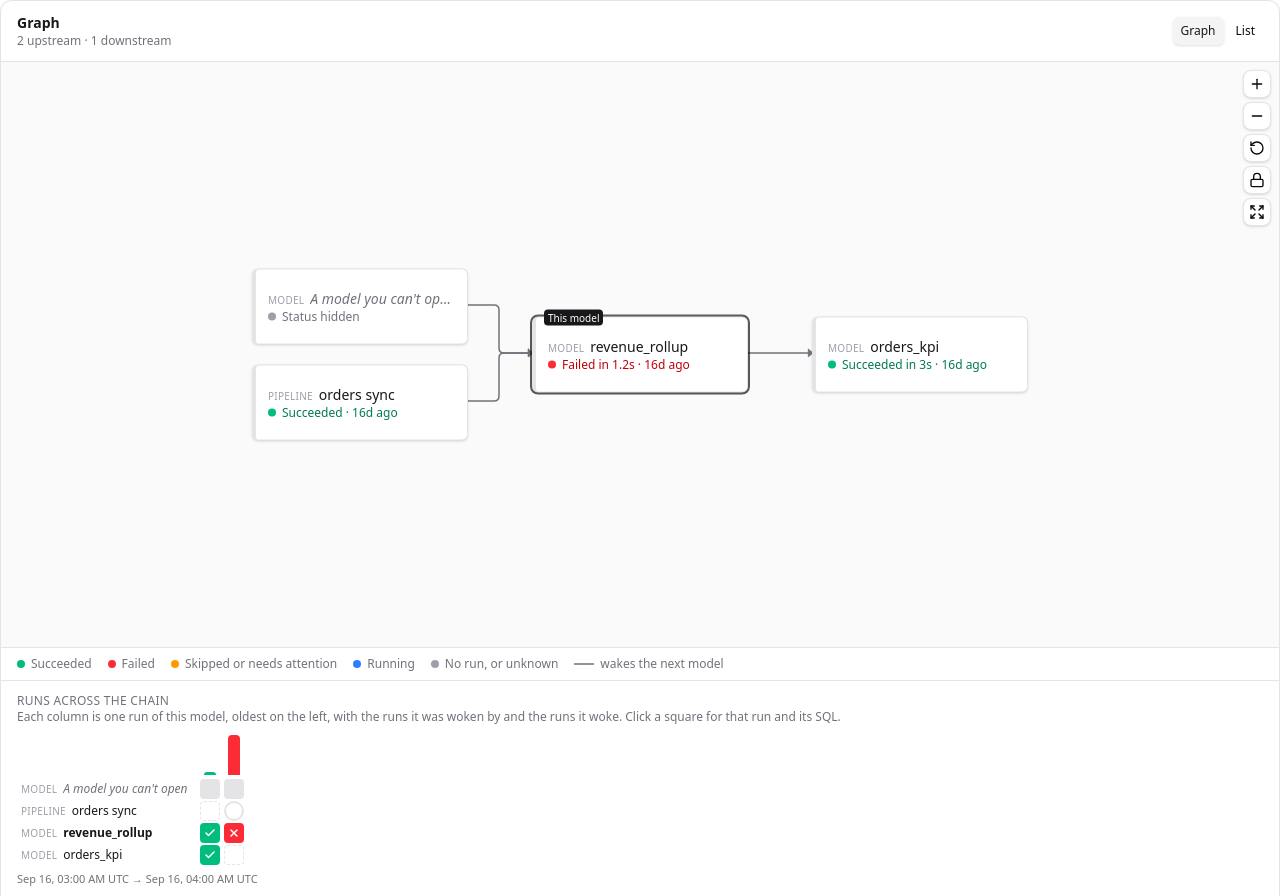
it: ModelLineageGraph › the run panel and the run grid › opens a card's recent runs and the SQL the chosen run executed
The width and height of the screenshot is (1280, 896).
Expected: the number of elements with class "react-flow__node" is 4, [532,316,748,392]; [252,268,468,344]; [812,316,1028,392]; [252,364,468,440]
Click the 1st text "orders_kpi": (905, 346) [870,336,939,356]
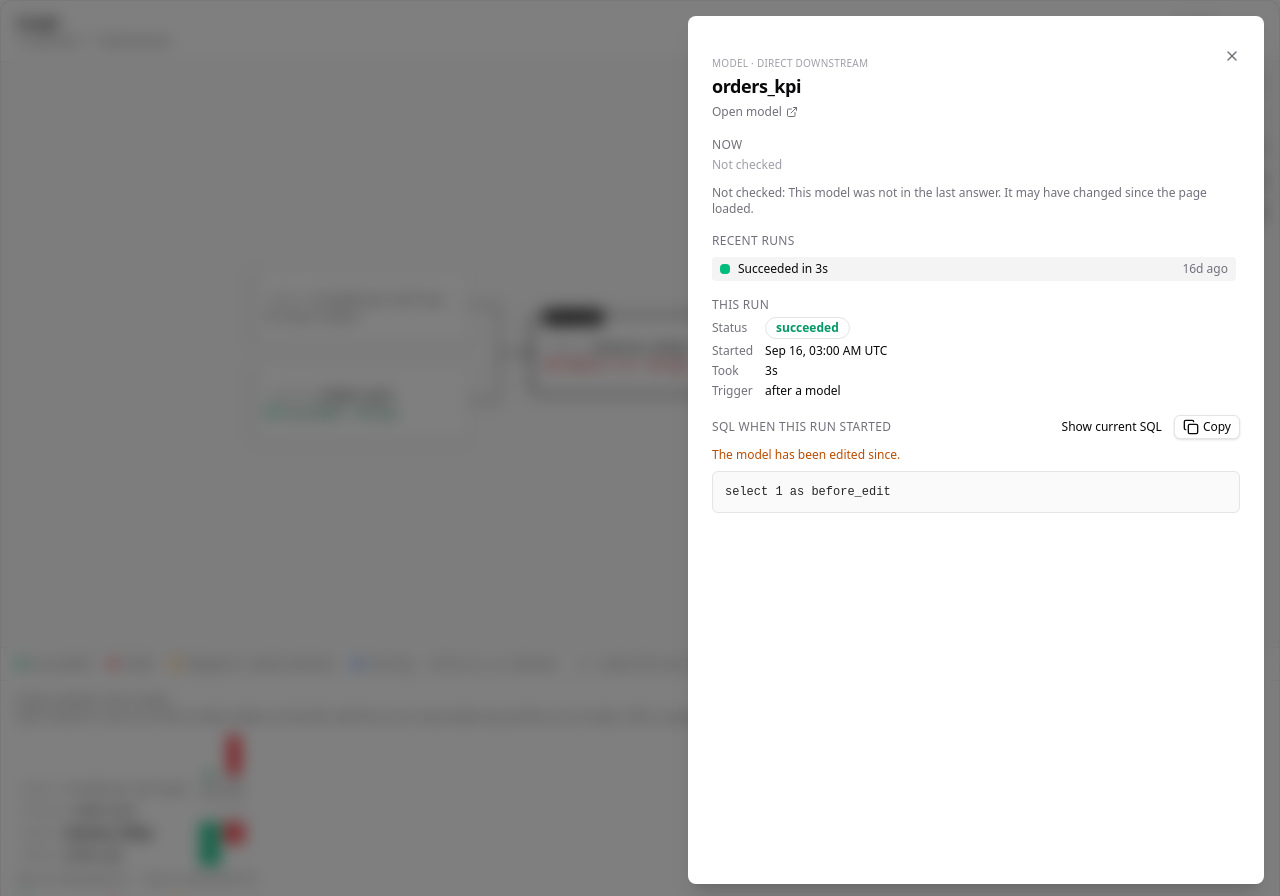
Expected: the text "after a model" is shown, [765,382,841,399]
Expected: the text named "SQL when this run started" reads "select 1 as before_edit", [725,485,891,499]
Expected: the text "The model has been edited since." is shown, [712,446,900,463]
Click the button "Show current SQL": (1112, 427) [1054,415,1170,439]
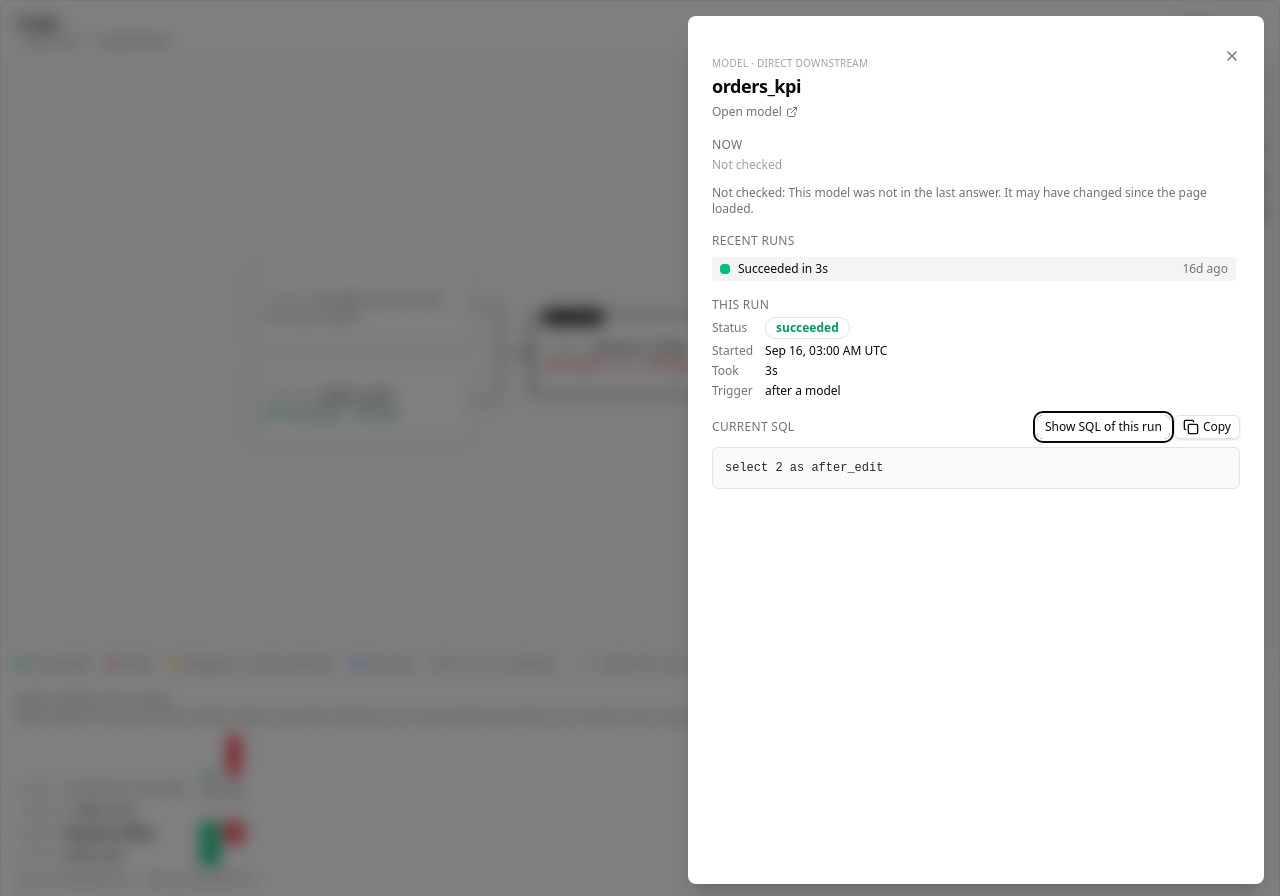
Expected: the text named "Current SQL" reads "select 2 as after_edit", [725,461,883,475]
Press Escape
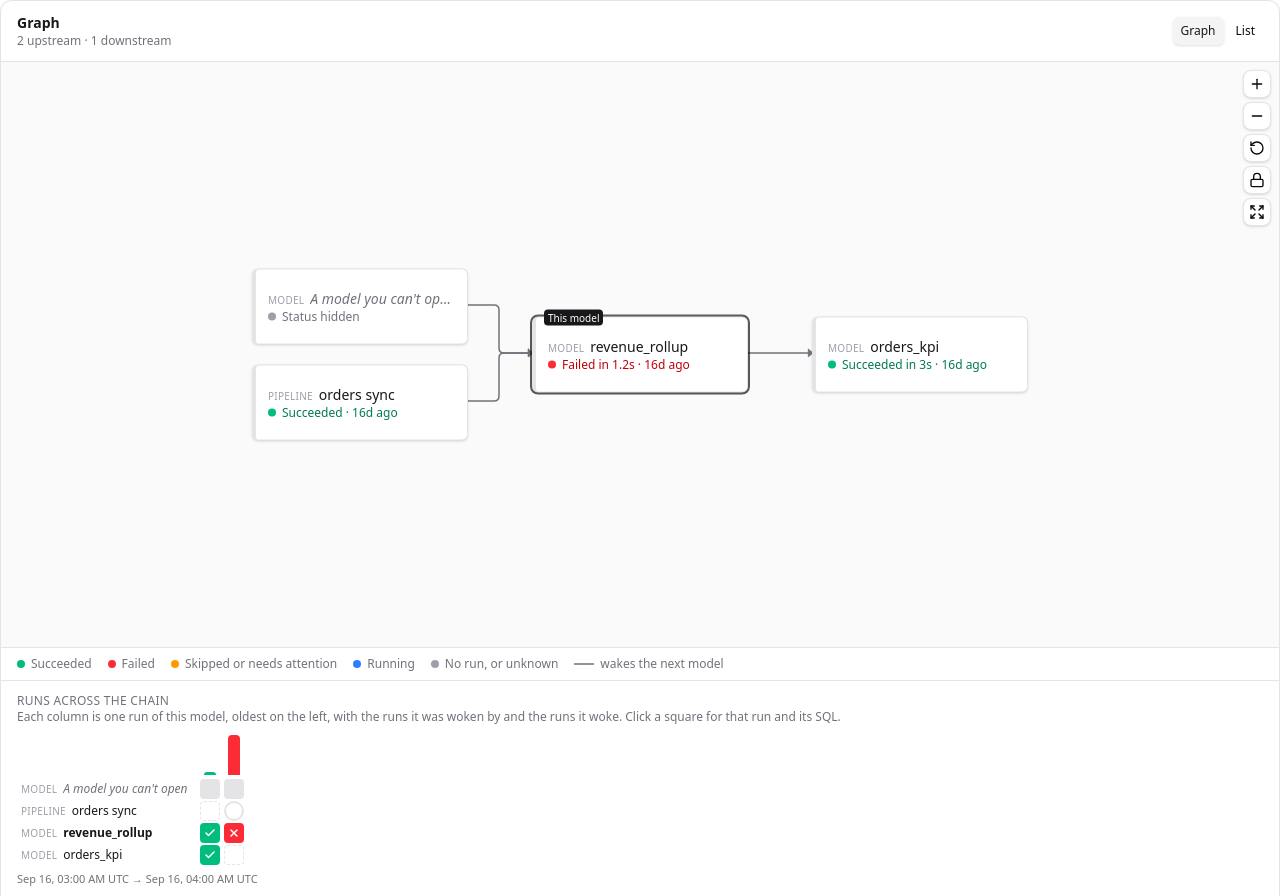
Expected: the dialog is gone
